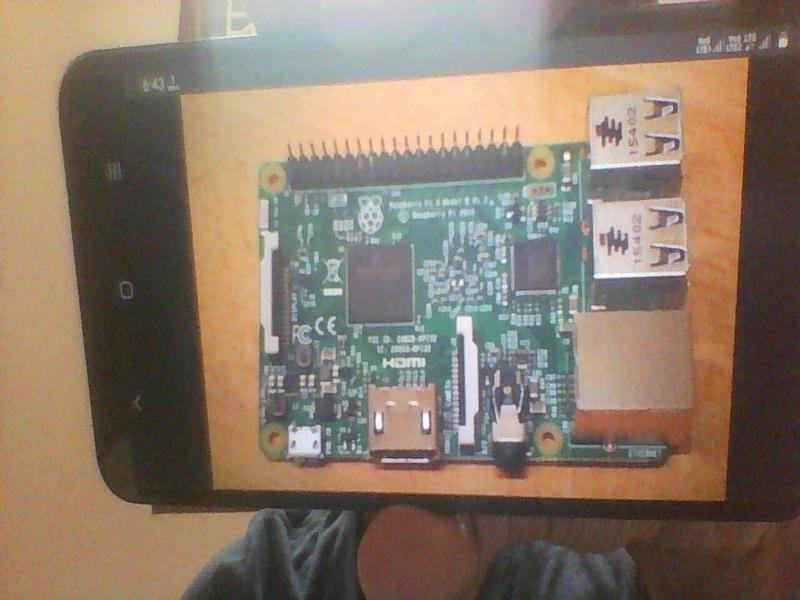aud: (485, 358, 532, 473)
eth: (572, 310, 696, 432)
usb: (586, 200, 691, 287), (585, 93, 686, 171)
